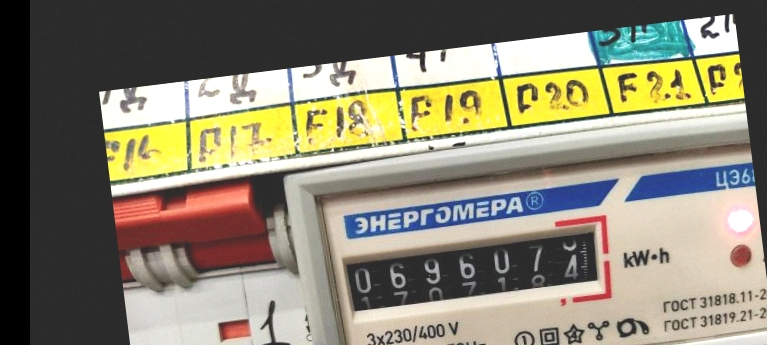0: (352, 263, 375, 296), (491, 243, 514, 275)
4: (560, 251, 582, 281)
6: (385, 258, 411, 290), (457, 250, 479, 280)
7: (526, 240, 547, 272)
9: (422, 255, 443, 286)
screen: (325, 207, 618, 331)
